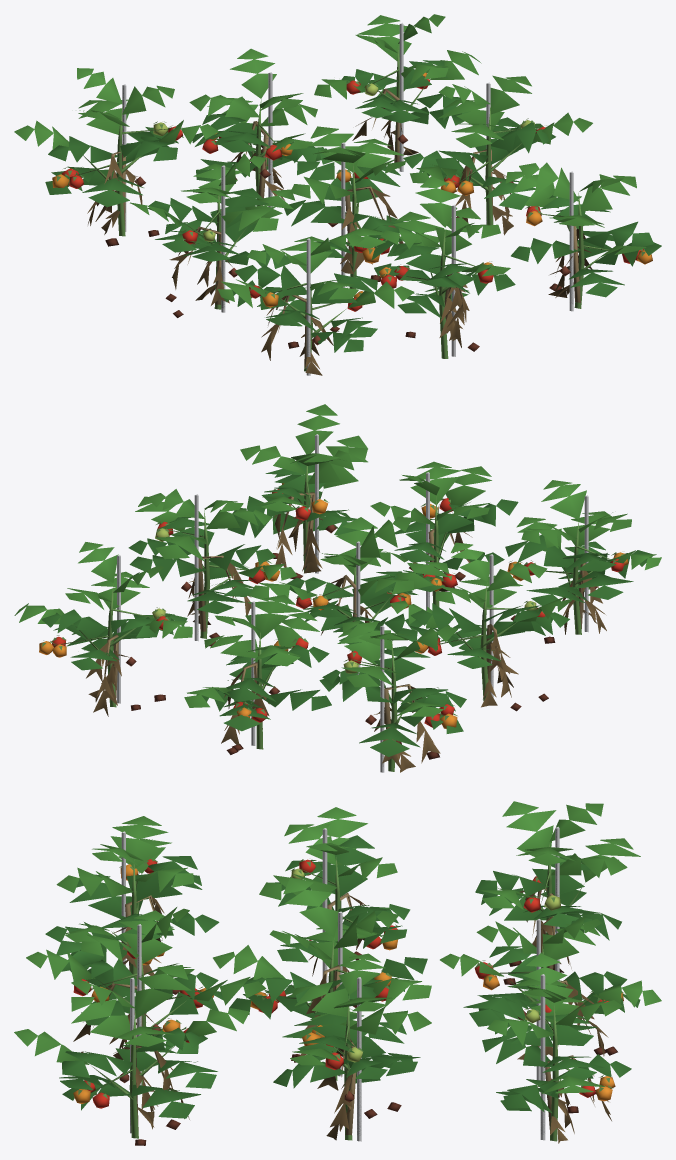
File: crop_tomato.glb
The picture shows the model from 3 angles, top to bottom: view 1: azimuth 30°, elevation 25°; view 2: azimuth 150°, elevation 25°; view 3: azimuth 270°, elevation 25°; orthographic projection. The views are drawn at different scales.
Visible parts, largest first — view 1: plants_mesh, plants_dead_mesh; view 2: plants_mesh, plants_dead_mesh; view 3: plants_mesh, plants_dead_mesh.
Boxes of the visible parts, <box> form: plants_mesh: <box>14,14,661,375</box>; plants_dead_mesh: <box>87,24,591,375</box>; plants_mesh: <box>14,404,661,772</box>; plants_dead_mesh: <box>86,437,606,772</box>; plants_mesh: <box>14,801,661,1141</box>; plants_dead_mesh: <box>73,828,617,1145</box>.
Bounding box in the file's own units: 1.59 × 0.6034 × 1.8.
